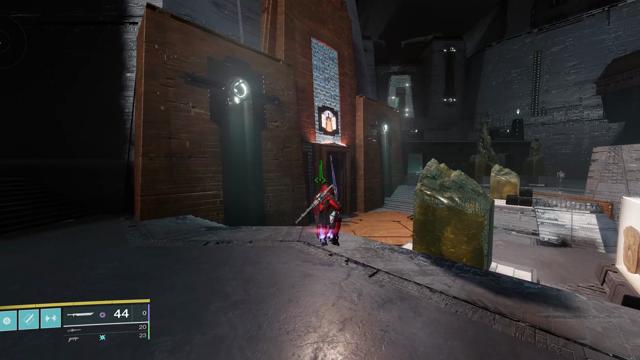worship: (322, 111, 336, 132)
